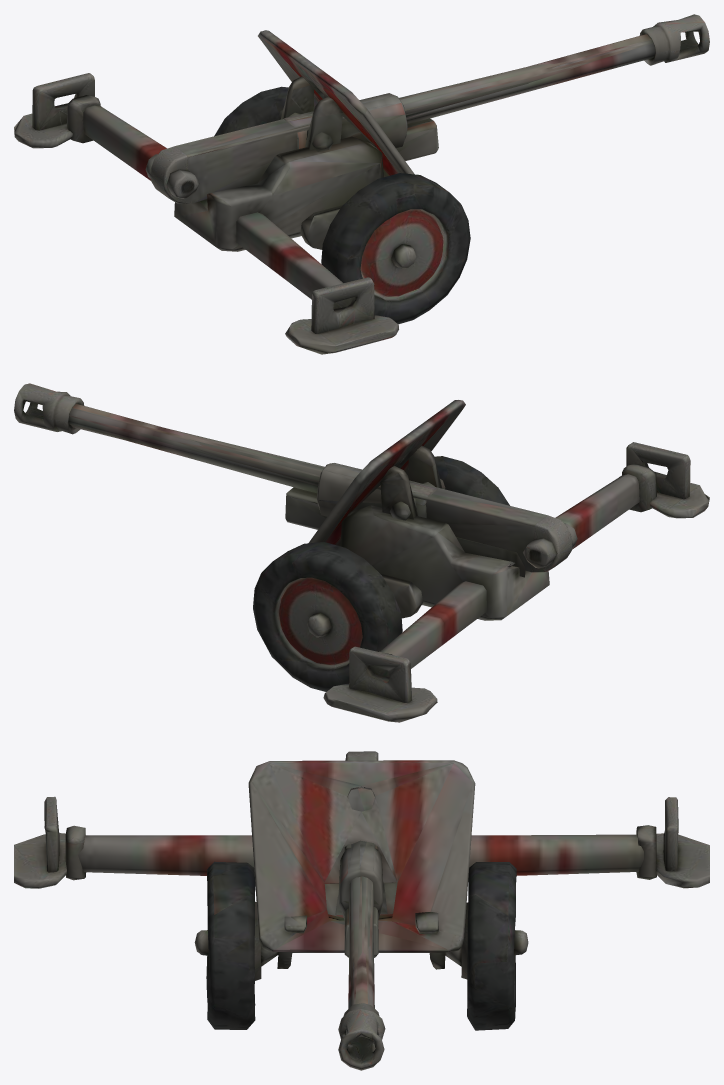
Rendered from at_gun.glb.
The picture shows the model from 3 angles, top to bottom: view 1: azimuth 30°, elevation 25°; view 2: azimuth 150°, elevation 25°; view 3: azimuth 270°, elevation 25°; orthographic projection. The views are drawn at different scales.
Visible parts, largest first — view 1: hull; view 2: hull; view 3: hull.
Part boxes in pixels (bbox=[...]): hull: bbox=[14, 14, 709, 354]; hull: bbox=[14, 383, 709, 722]; hull: bbox=[14, 751, 709, 1070].
Bounding box in the file's own units: 1 × 0.3881 × 1.
1 material, 1 textured.
